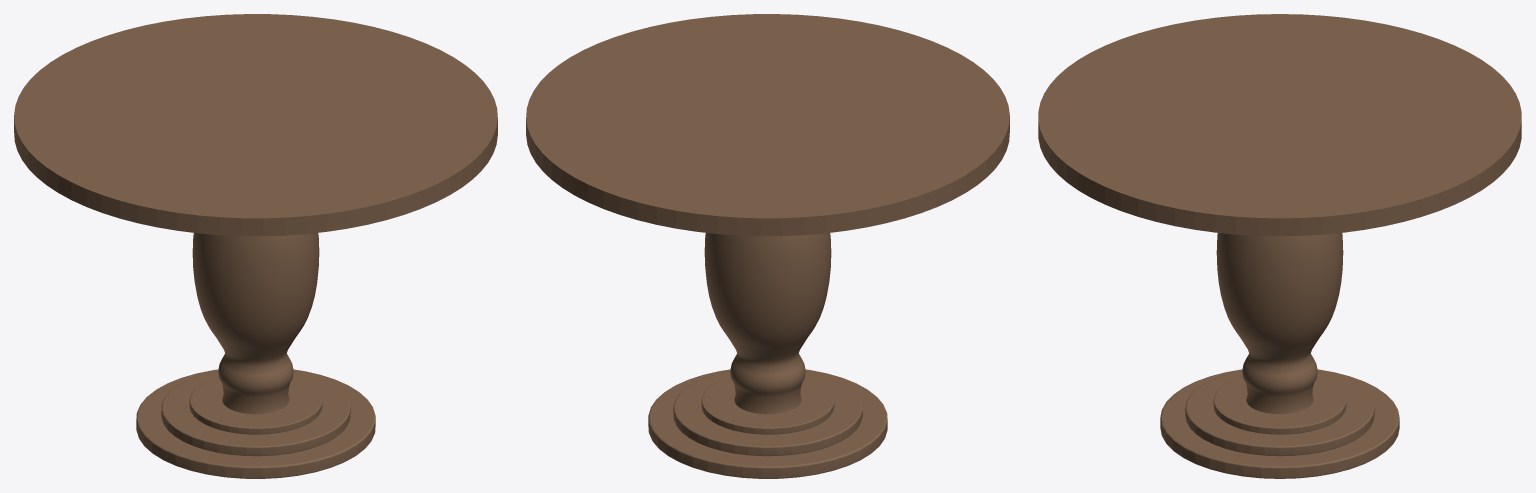
The model's file is table.fbx.
3 views of the same model, side by side, from view 1: azimuth 30°, elevation 25°; view 2: azimuth 150°, elevation 25°; view 3: azimuth 270°, elevation 25° (orthographic).
Parts seen in each view (by area): view 1: table; view 2: table; view 3: table.
Part boxes in pixels (x1,y1,x2,y2): table: (14,14,497,478); table: (526,14,1009,478); table: (1038,14,1521,478).
Bounding box in the file's own units: 3.98 × 2.84 × 3.98.
